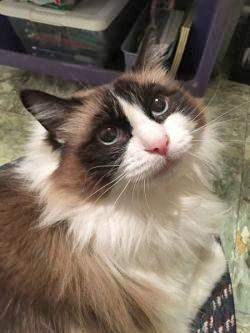ragdoll: (16, 21, 216, 205)
